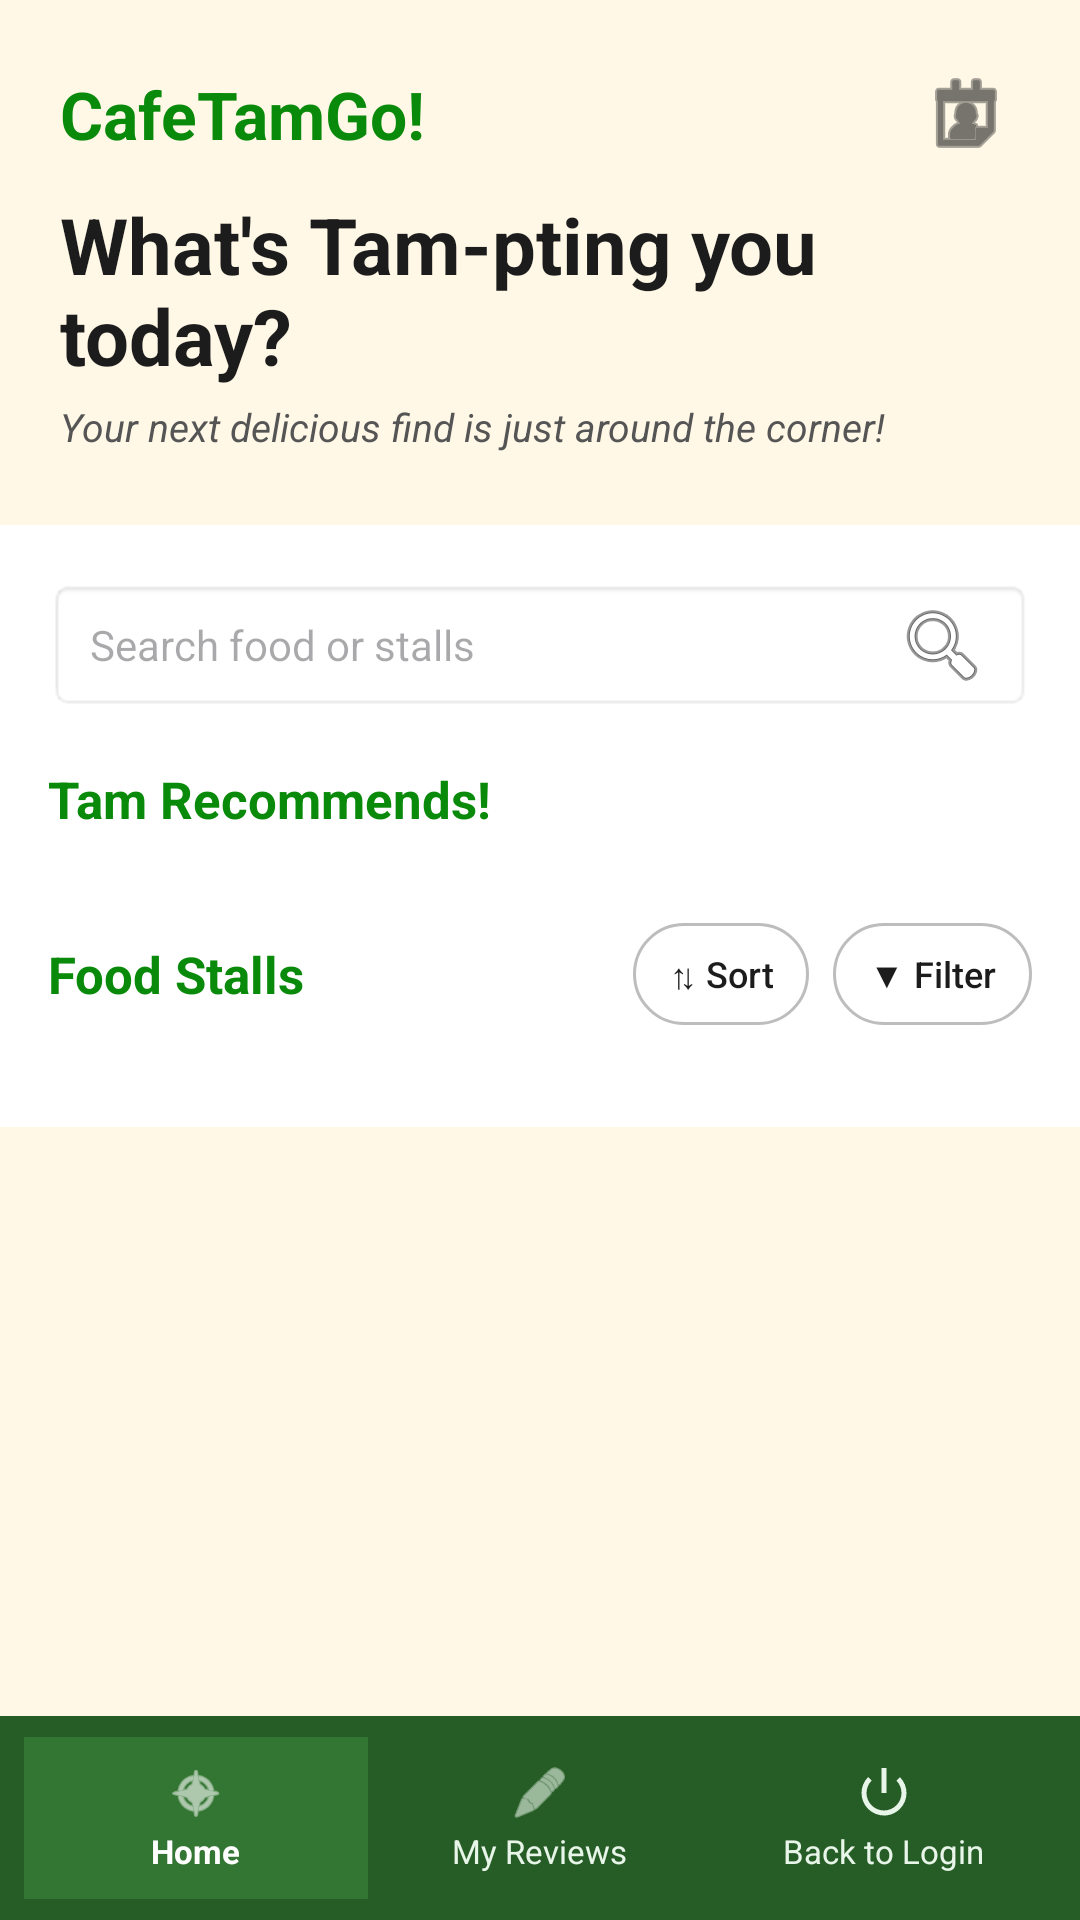

Icon bounding boxes for this 1080×1920 phone screenshot, format (x1, y1, x2, y2):
compass: (172, 1770, 219, 1817)
edit: (514, 1767, 565, 1818)
lock power off: (861, 1768, 907, 1816)
